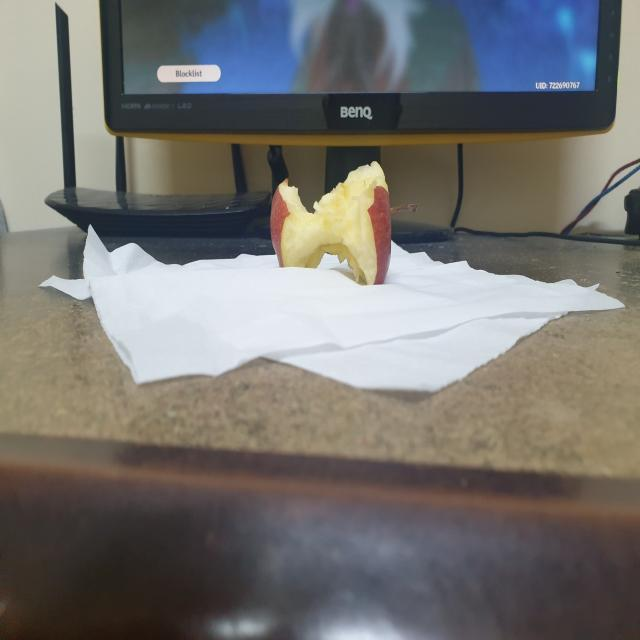apple: (245, 145, 408, 298)
